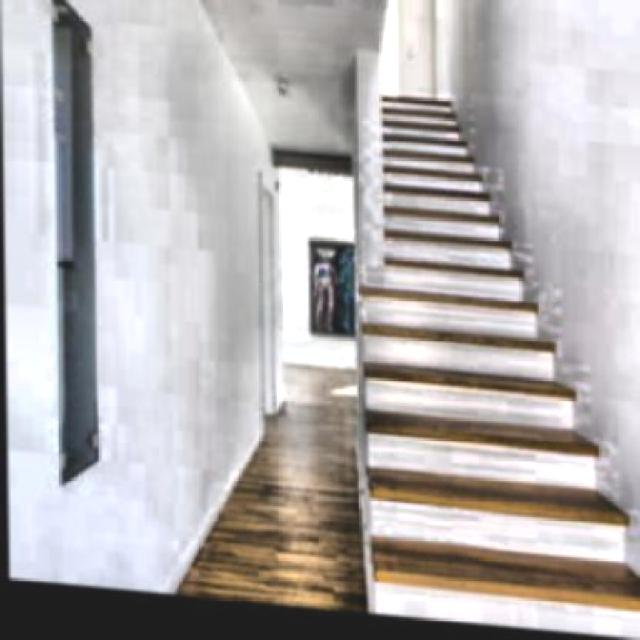stair: (364, 92, 578, 603)
